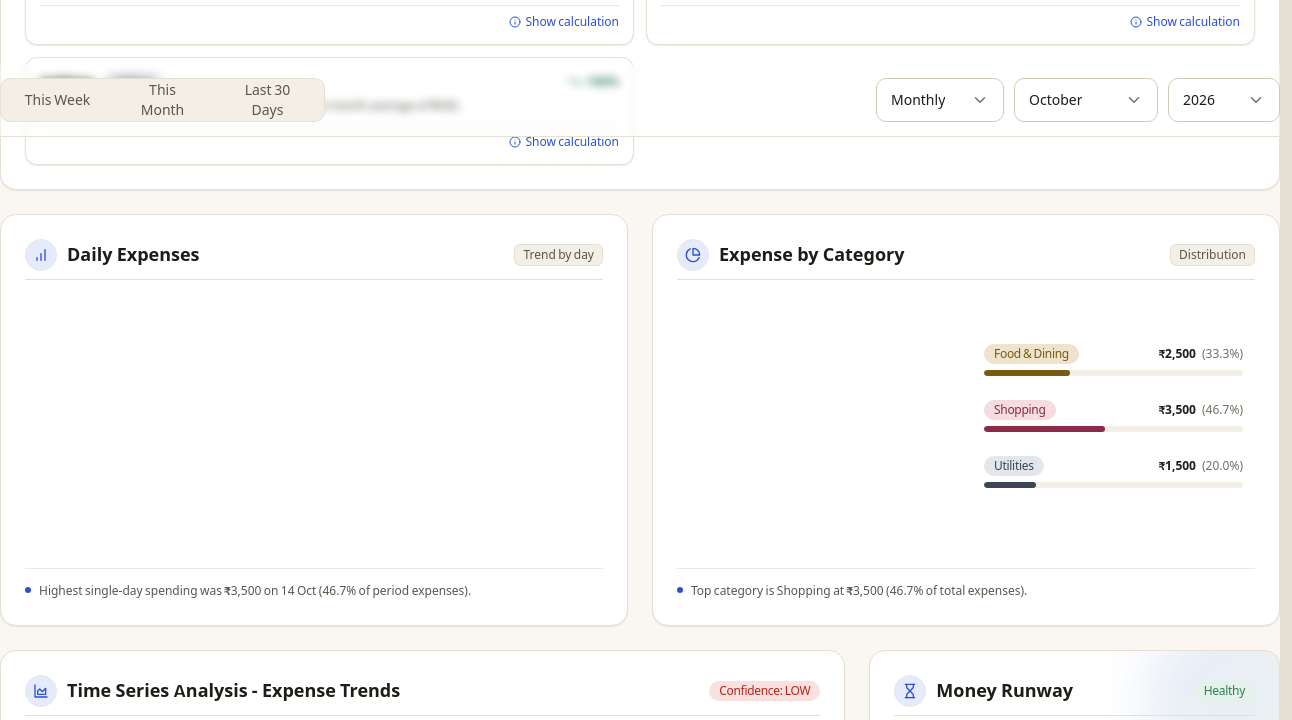
Test: Phase 7: Analytics Screen Redesign › Category Doughnut & Interactive Legend › renders legend rows with percent bars and highlights on mouse hover/focus
Later steps or results of the test are not shown.
(page scrolled)
Hover over the button "Food & Dining ₹2,500(33.3%)" at (1031, 354), box top-left (976, 336), bottom-right (1251, 384)
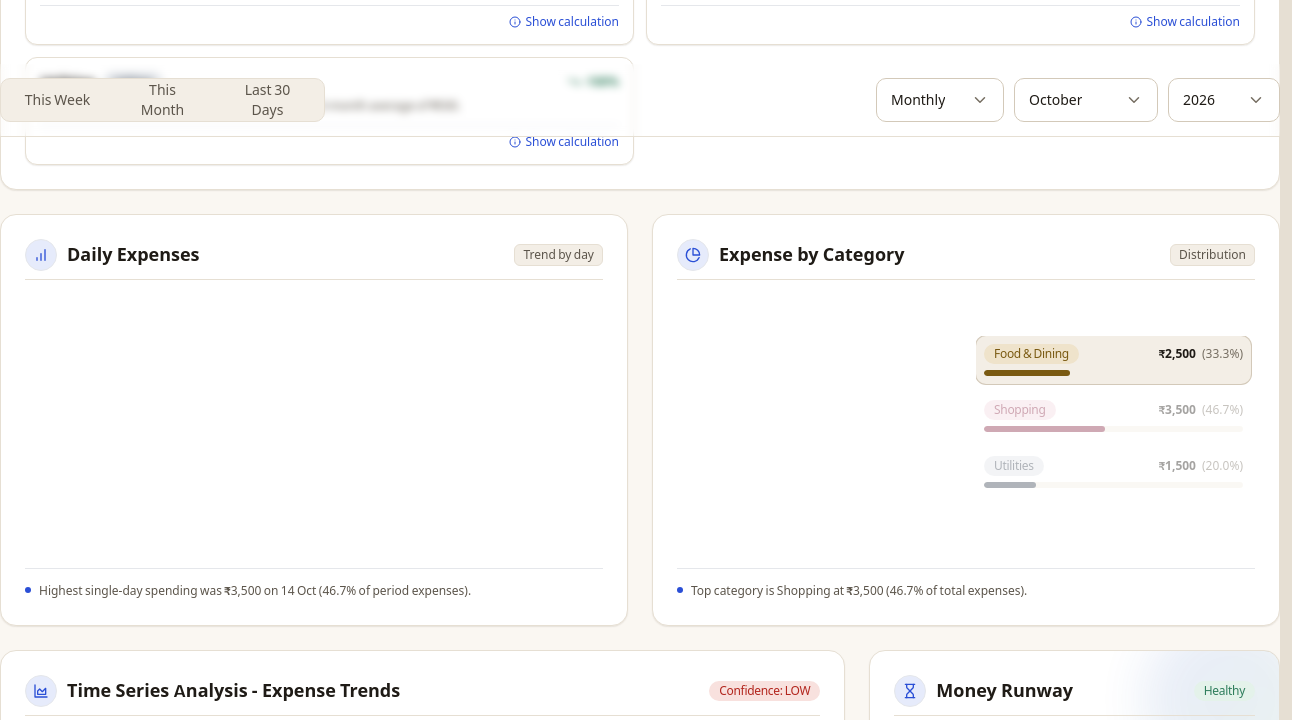
Expected: the button "Food & Dining ₹2,500(33.3%)" has class "bg-surface-2", top-left (976, 336), bottom-right (1251, 384)
